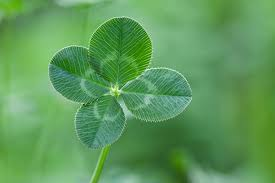4-clover: (51, 17, 192, 147)
